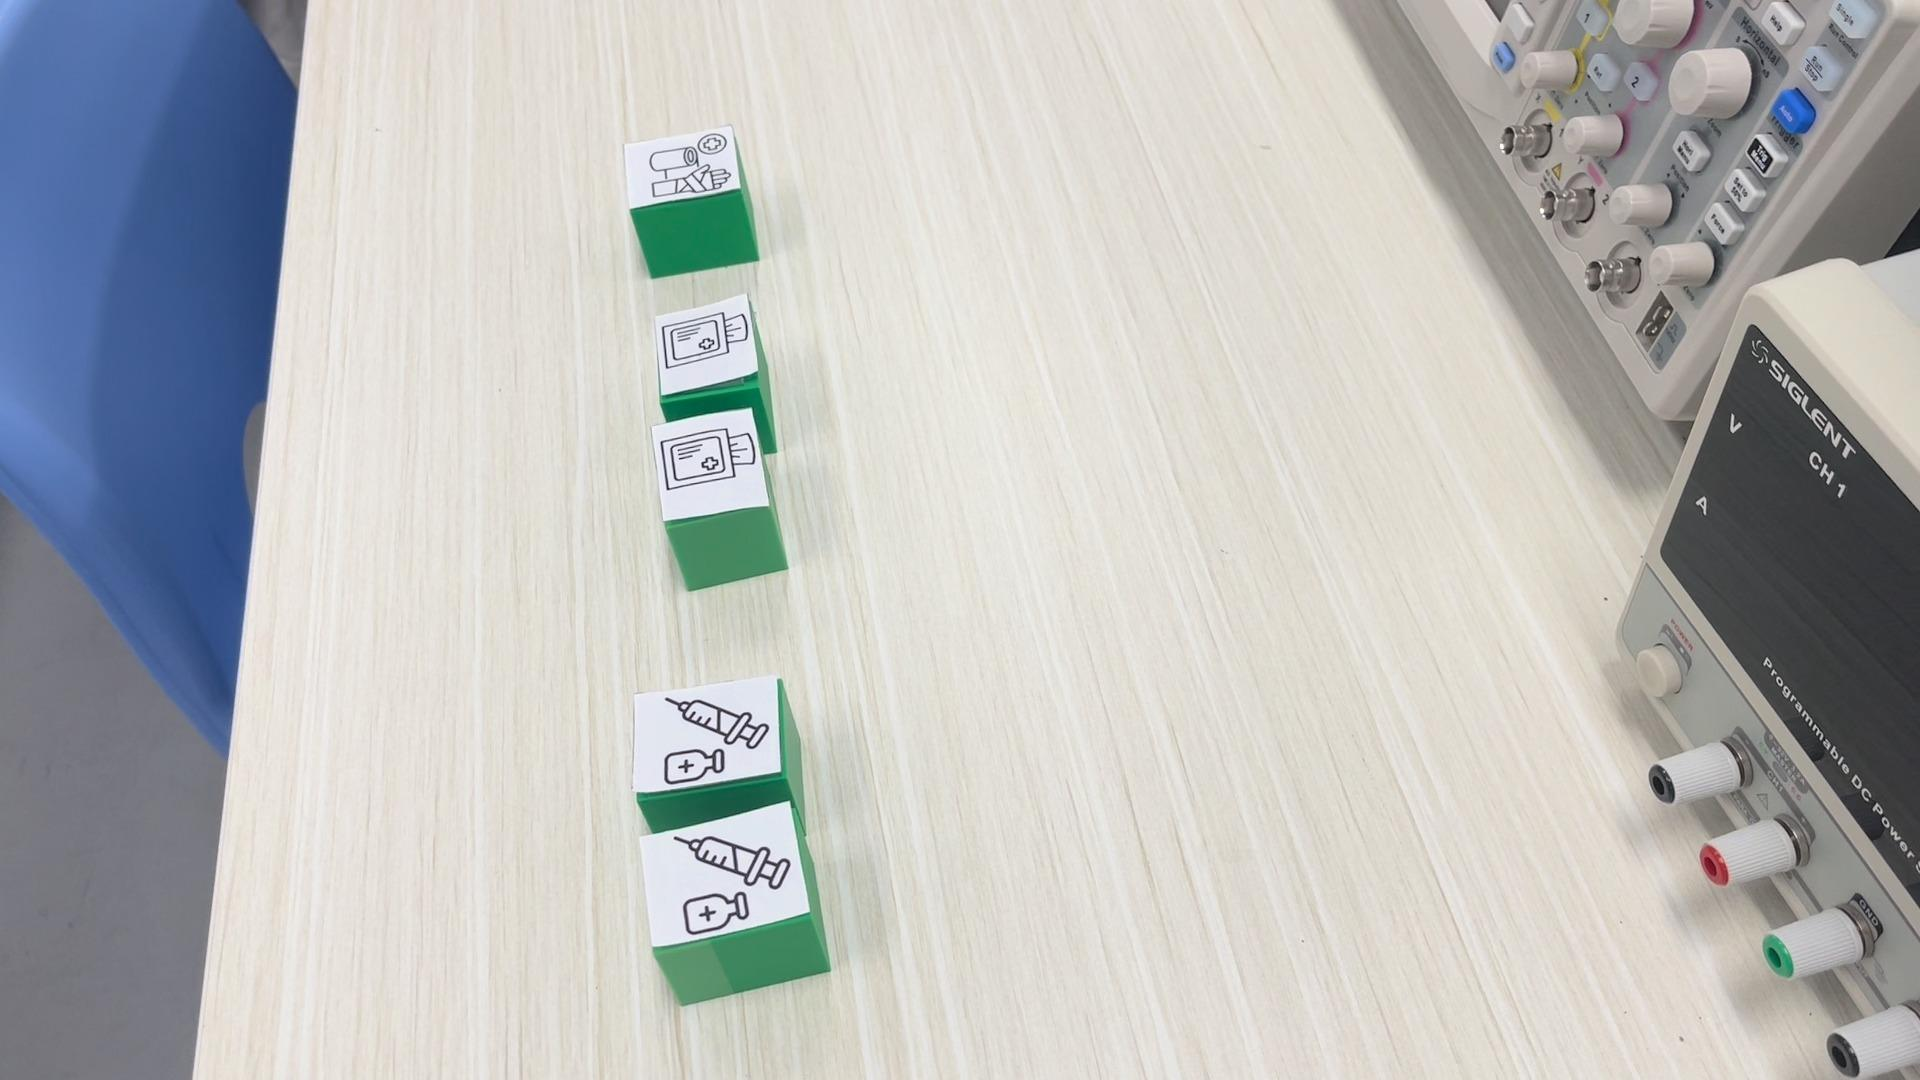Bandages: (622, 124, 760, 277)
Gauze: (655, 400, 789, 592), (657, 290, 773, 407)
antiseptic cream: (642, 799, 833, 1006), (630, 674, 793, 796)
